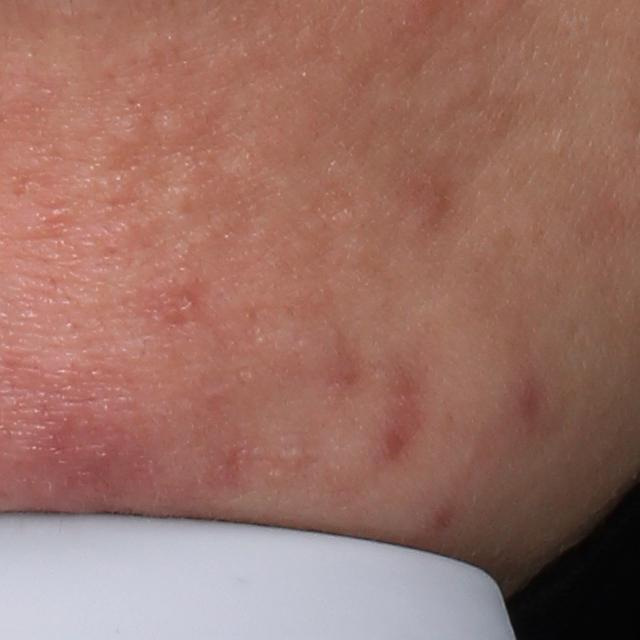hypertrophic_scar: (69, 155, 140, 214), (162, 177, 208, 225), (149, 105, 195, 148), (106, 112, 145, 149)
